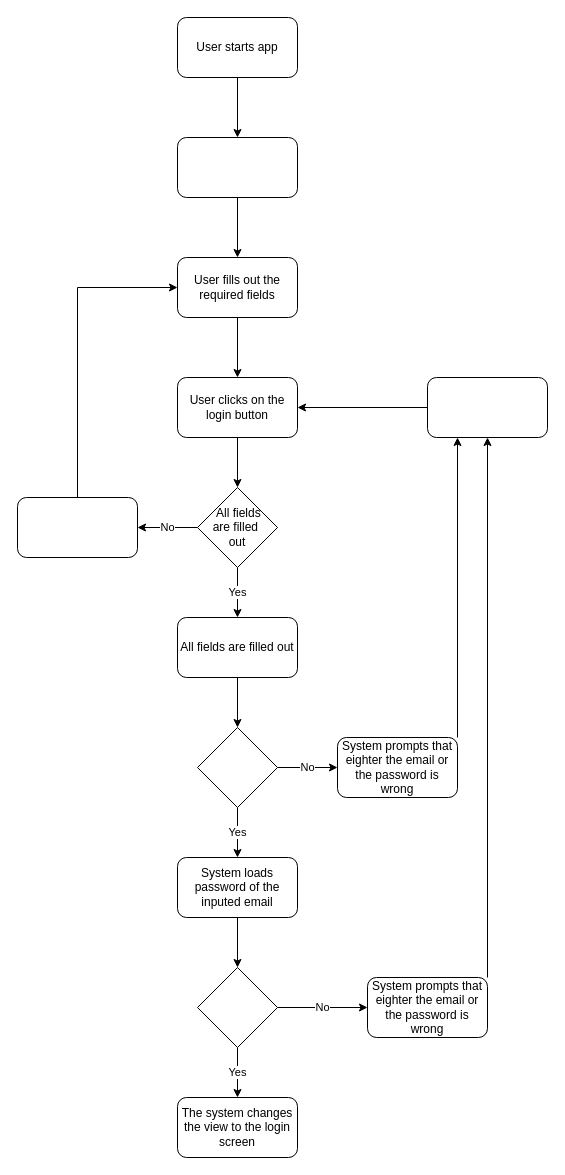
Some shapes in this 565 by 1175 pixel diagram are drawn without their labels. Each missing label, with the centre of its shape:
"Email exists" belongs at [237,767].
"System prompts the user to fill out all fields" belongs at [77,527].
"The passowrd matches the input" belongs at [237,1007].
"User corrects the required input fields" belongs at [487,407].
"User want to login" belongs at [237,167].
